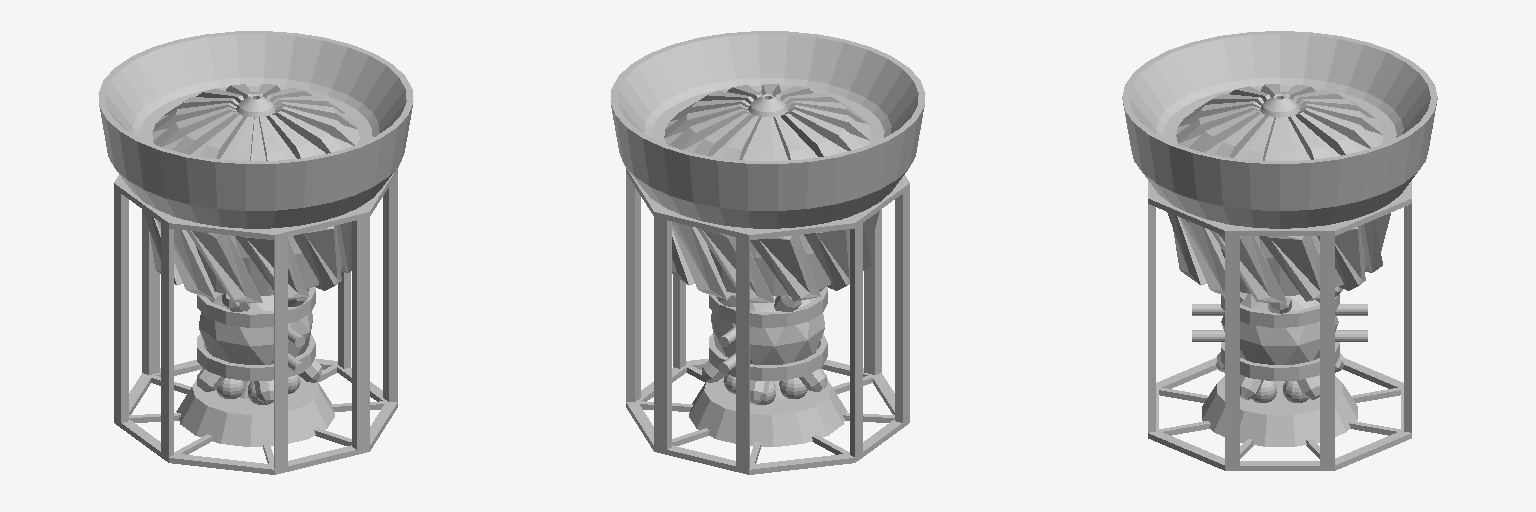
Rendered from drive3x3.obj.
The picture shows the model from 3 angles: view 1: azimuth 30°, elevation 25°; view 2: azimuth 150°, elevation 25°; view 3: azimuth 270°, elevation 25°; orthographic projection.
Parts seen in each view (by area): view 1: Cylinder.001, 3x3RFrame.001_Cylinder.044, Cube.002_Cube.004, Cylinder.010_Cylinder.030, Icosphere, Cylinder.007_Cylinder.027, Cylinder_Cylinder.026, Cylinder.002, Cylinder.005_Cylinder.007, Sphere; view 2: Cylinder.001, 3x3RFrame.001_Cylinder.044, Cube.002_Cube.004, Cylinder.010_Cylinder.030, Icosphere, Cylinder.007_Cylinder.027, Cylinder_Cylinder.026, Cylinder.002, Cylinder.005_Cylinder.007, Sphere; view 3: Cylinder.001, 3x3RFrame.001_Cylinder.044, Cube.002_Cube.004, Cylinder.010_Cylinder.030, Icosphere, Cylinder.007_Cylinder.027, Cylinder_Cylinder.026, Cylinder.005_Cylinder.007, Cylinder.002, Cylinder.012_Cylinder.032, Sphere, Cylinder.011_Cylinder.031.
Boxes of the visible parts, box(x1,y1,x2,y2) form: Cylinder.001: box(98, 31, 413, 228); 3x3RFrame.001_Cylinder.044: box(114, 168, 397, 474); Cube.002_Cube.004: box(142, 209, 351, 302); Cylinder.010_Cylinder.030: box(176, 377, 334, 446); Icosphere: box(199, 293, 312, 364); Cylinder.007_Cylinder.027: box(197, 334, 315, 380); Cylinder_Cylinder.026: box(197, 287, 315, 327); Cylinder.002: box(196, 236, 341, 295); Cylinder.005_Cylinder.007: box(197, 349, 321, 403); Sphere: box(216, 374, 300, 404); Cylinder.001: box(610, 31, 925, 228); 3x3RFrame.001_Cylinder.044: box(626, 168, 909, 474); Cube.002_Cube.004: box(672, 211, 879, 302); Cylinder.010_Cylinder.030: box(689, 377, 847, 446); Icosphere: box(711, 296, 824, 364); Cylinder.007_Cylinder.027: box(709, 334, 827, 380); Cylinder_Cylinder.026: box(709, 287, 827, 327); Cylinder.002: box(708, 234, 830, 295); Cylinder.005_Cylinder.007: box(702, 348, 826, 403); Sphere: box(723, 374, 807, 404); Cylinder.001: box(1122, 31, 1437, 228); 3x3RFrame.001_Cylinder.044: box(1148, 181, 1411, 470); Cube.002_Cube.004: box(1167, 212, 1390, 302); Cylinder.010_Cylinder.030: box(1202, 376, 1357, 446); Icosphere: box(1221, 293, 1338, 364); Cylinder.007_Cylinder.027: box(1221, 342, 1339, 380); Cylinder_Cylinder.026: box(1221, 294, 1339, 327); Cylinder.005_Cylinder.007: box(1216, 352, 1343, 399); Cylinder.002: box(1220, 236, 1365, 295); Cylinder.012_Cylinder.032: box(1192, 330, 1367, 341); Sphere: box(1251, 380, 1308, 402); Cylinder.011_Cylinder.031: box(1192, 304, 1367, 315).
Size of the model in its own units: 10.73 by 11.93 by 10.73.